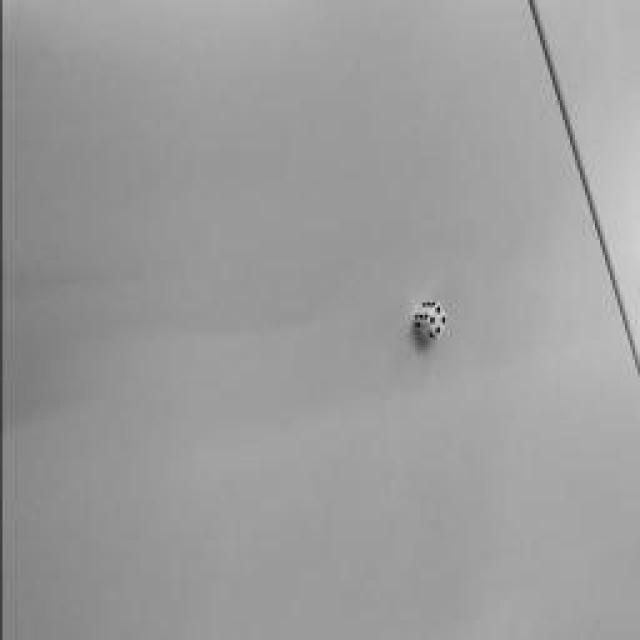dice_4: (426, 302, 446, 340)
